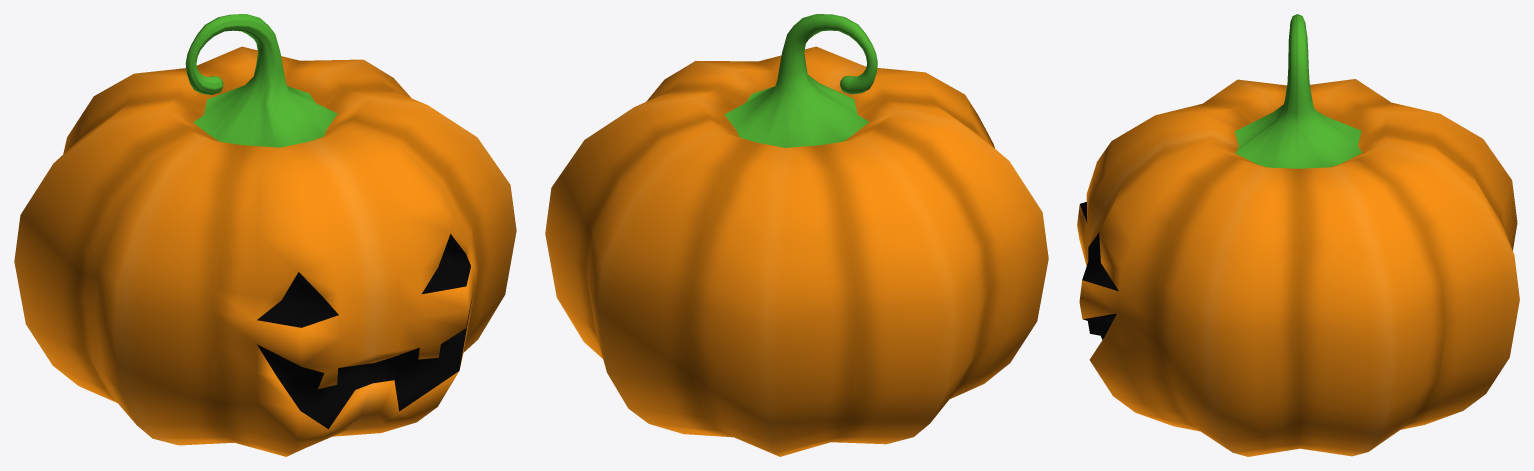
File: pumpkin_46458448.glb
The picture shows the model from 3 angles, left to right: view 1: azimuth 30°, elevation 25°; view 2: azimuth 150°, elevation 25°; view 3: azimuth 270°, elevation 25°; orthographic projection. The views are drawn at different scales.
Parts seen in each view (by area): view 1: JackoLantern; view 2: JackoLantern; view 3: JackoLantern.
Part boxes in pixels (x1=…): JackoLantern: x1=14, y1=14, x2=516, y2=456; JackoLantern: x1=545, y1=14, x2=1048, y2=456; JackoLantern: x1=1077, y1=14, x2=1519, y2=456.
Size of the model in its own units: 194 by 177 by 194.
Materials: 1 (1 with a texture image).
